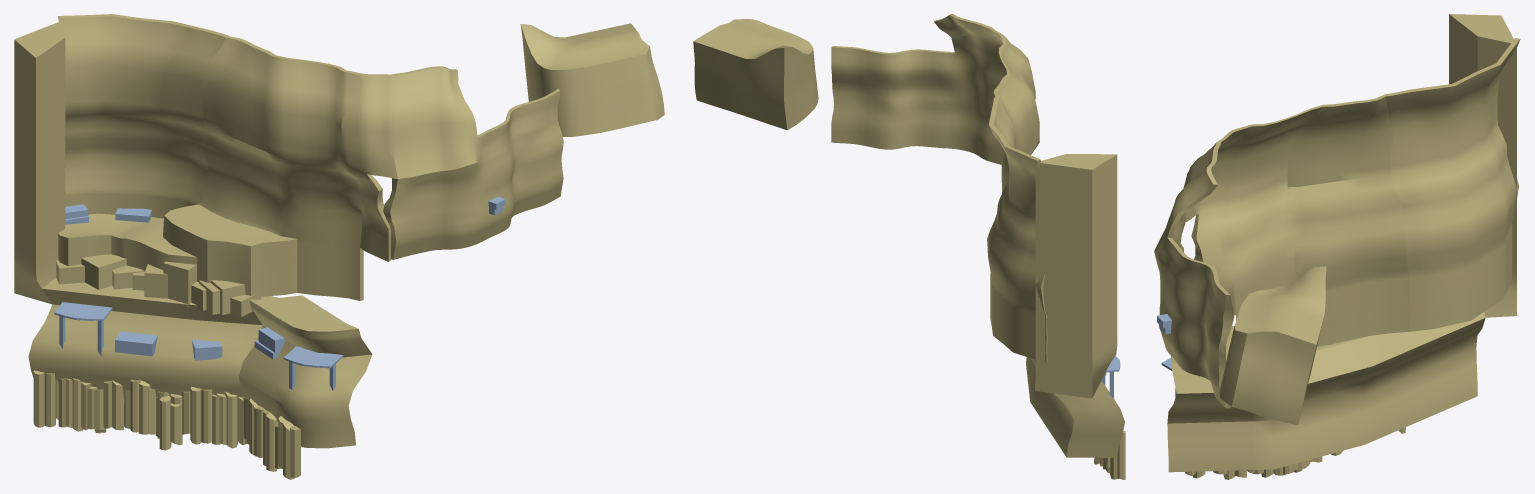
Rendered from round idek.fbx.
The picture shows the model from 3 angles, left to right: view 1: azimuth 30°, elevation 25°; view 2: azimuth 150°, elevation 25°; view 3: azimuth 270°, elevation 25°; orthographic projection. The views are drawn at different scales.
Parts seen in each view (by area): view 1: Cube.001, Cube.023, Plane.010, Cube.170, Cube.141, Cube.143, Cube.145, Cube.134, Cube.130, Cube.144, Cube.133, Cube.167; view 2: Cube.001, Cube.023, Plane.010; view 3: Cube.001, Cube.023, Plane.010.
Part boxes in pixels (bbox=[...]): Cube.001: bbox=[58, 14, 563, 300]; Cube.023: bbox=[14, 22, 372, 448]; Plane.010: bbox=[520, 23, 664, 136]; Cube.170: bbox=[54, 302, 343, 368]; Cube.141: bbox=[225, 391, 294, 479]; Cube.143: bbox=[212, 394, 300, 477]; Cube.145: bbox=[190, 386, 276, 471]; Cube.134: bbox=[163, 261, 196, 307]; Cube.130: bbox=[81, 254, 126, 289]; Cube.144: bbox=[201, 389, 271, 465]; Cube.133: bbox=[144, 264, 167, 298]; Cube.167: bbox=[33, 370, 44, 427]; Cube.001: bbox=[831, 14, 1047, 363]; Cube.023: bbox=[1026, 154, 1124, 457]; Plane.010: bbox=[693, 19, 818, 130]; Cube.001: bbox=[1154, 38, 1520, 408]; Cube.023: bbox=[1167, 14, 1517, 472]; Plane.010: bbox=[1219, 266, 1326, 425].
Bounding box in the file's own units: 28175 × 18475 × 15337.
